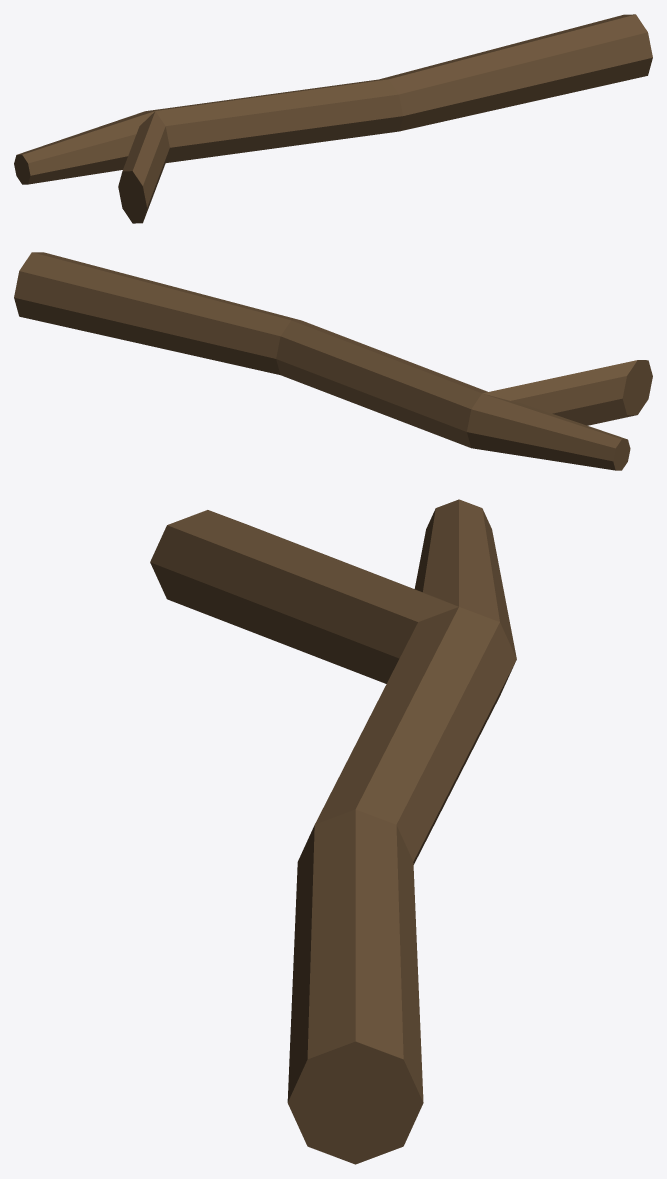
File: Stick.fbx
3 views of the same model, one above another, from view 1: azimuth 30°, elevation 25°; view 2: azimuth 150°, elevation 25°; view 3: azimuth 270°, elevation 25° (orthographic). The views are drawn at different scales.
Visible parts, largest first — view 1: stick; view 2: stick; view 3: stick.
Part boxes in pixels (x1=…): stick: x1=14, y1=14, x2=652, y2=223; stick: x1=14, y1=252, x2=652, y2=470; stick: x1=150, y1=499, x2=516, y2=1164.
Bounding box in the file's own units: 770 × 79.74 × 208.
